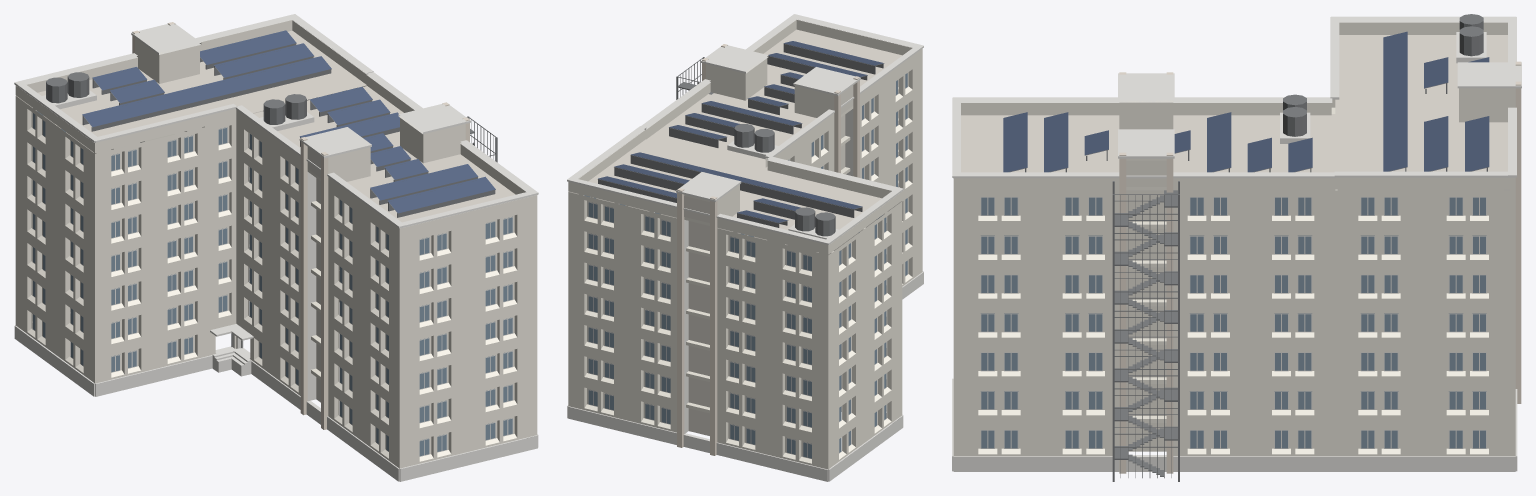
File: Boys_Hostel_3.fbx
3 renders of one model, left to right at view 1: azimuth 30°, elevation 25°; view 2: azimuth 150°, elevation 25°; view 3: azimuth 270°, elevation 25°, orthographic. The views are drawn at different scales.
Visible parts, largest first — view 1: Boys_Hostel_3; view 2: Boys_Hostel_3; view 3: Boys_Hostel_3.
Part boxes in pixels (x1,y1,x2,y2): Boys_Hostel_3: (14, 14, 538, 481); Boys_Hostel_3: (567, 14, 923, 481); Boys_Hostel_3: (952, 14, 1521, 481).
Bounding box in the file's own units: 32.8 × 27.96 × 45.22.
